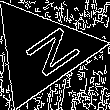N_SW: (7, 20, 76, 82)
